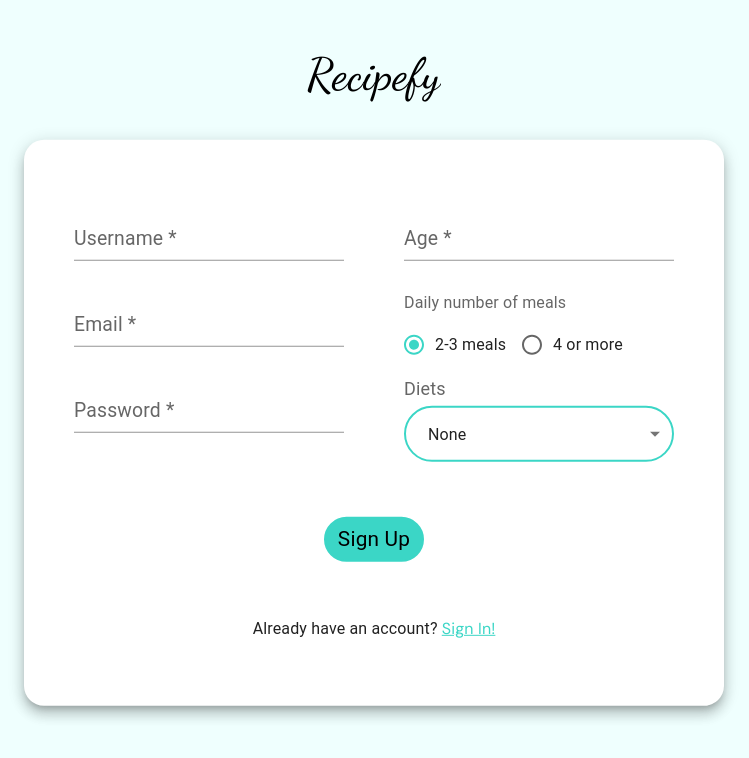
Test: Auth forms tests › SignUpForm tests › throws validation errors when incorrect inputs are passed
Type "Ms" into the field labelled "Username *" at point(209, 240), box top-left (74, 220), bottom-right (344, 260)
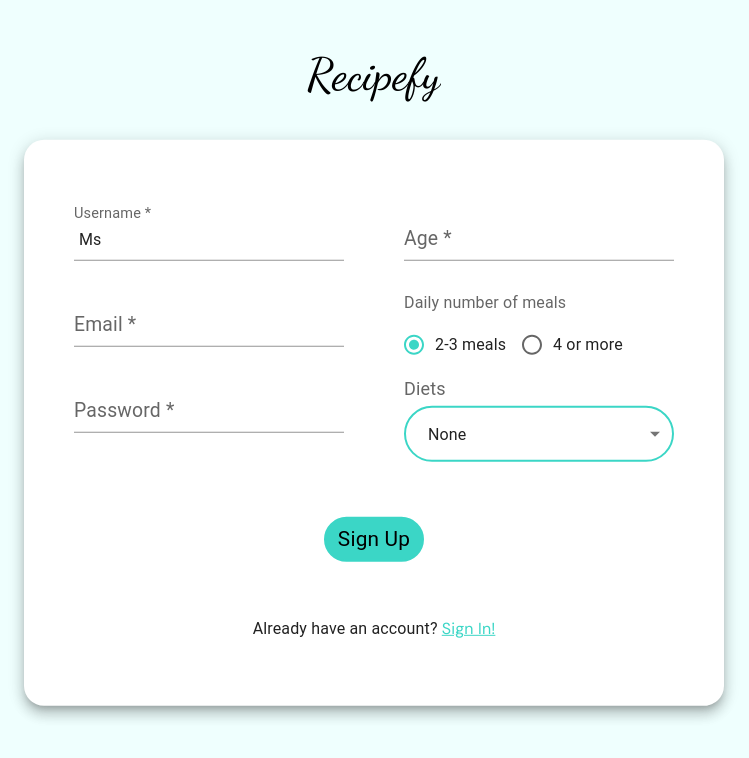
Type "notanemail" into the field labelled "Email *" at point(209, 326), box top-left (74, 306), bottom-right (344, 346)
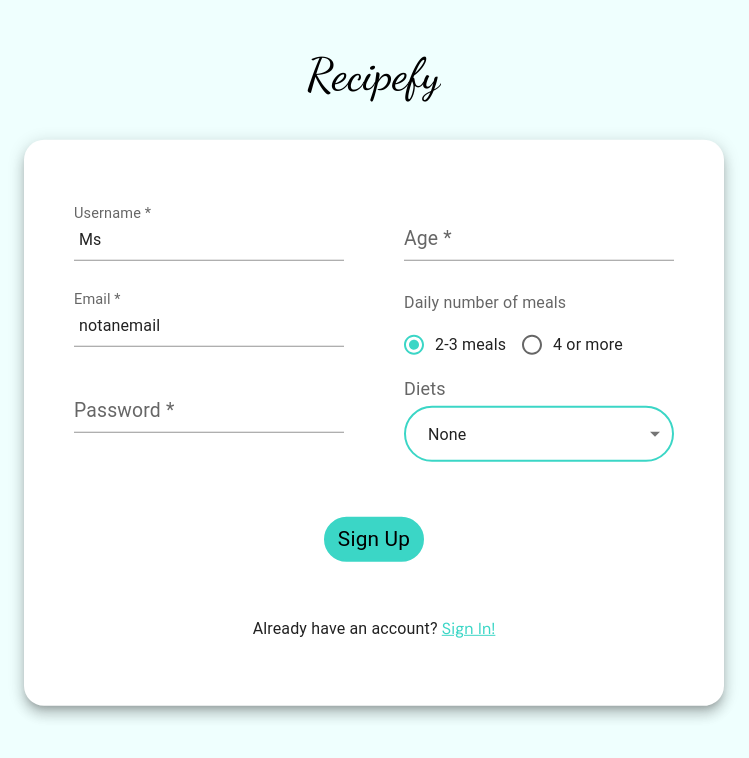
Type "weakpass" into the password field labelled "Password *" at point(209, 412), box top-left (74, 392), bottom-right (344, 432)
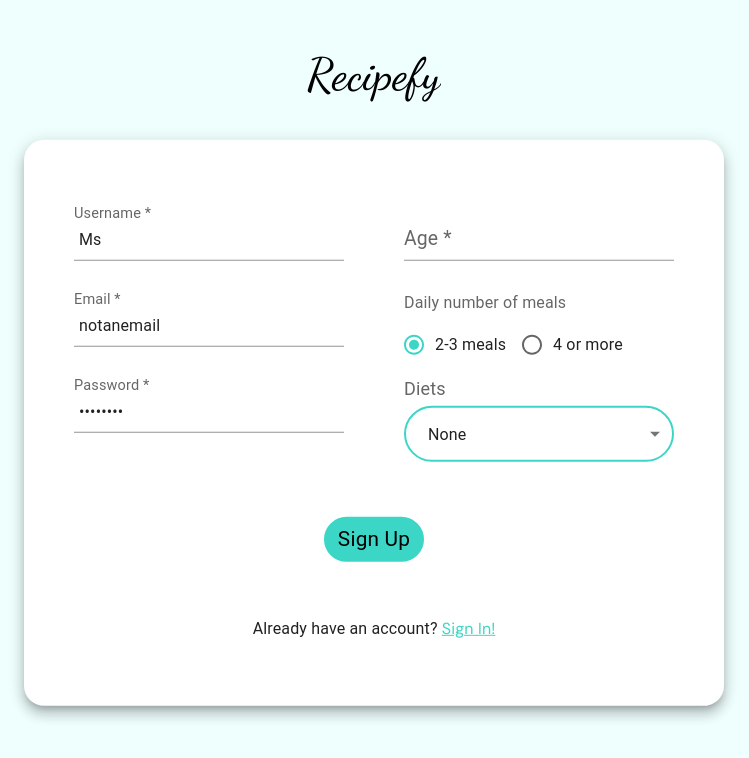
Type "900" into the number field labelled "Age *" at point(539, 240), box top-left (404, 220), bottom-right (674, 260)
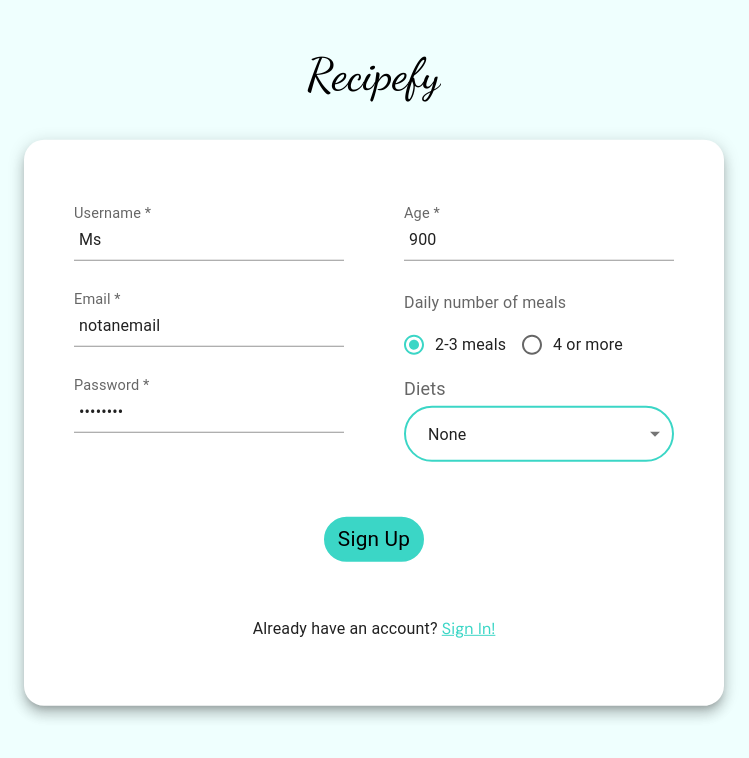
Note: Only selects the "4-5 meals" radio option
Click the radio button labelled "4 or more" at point(572, 344), box top-left (520, 332), bottom-right (623, 356)
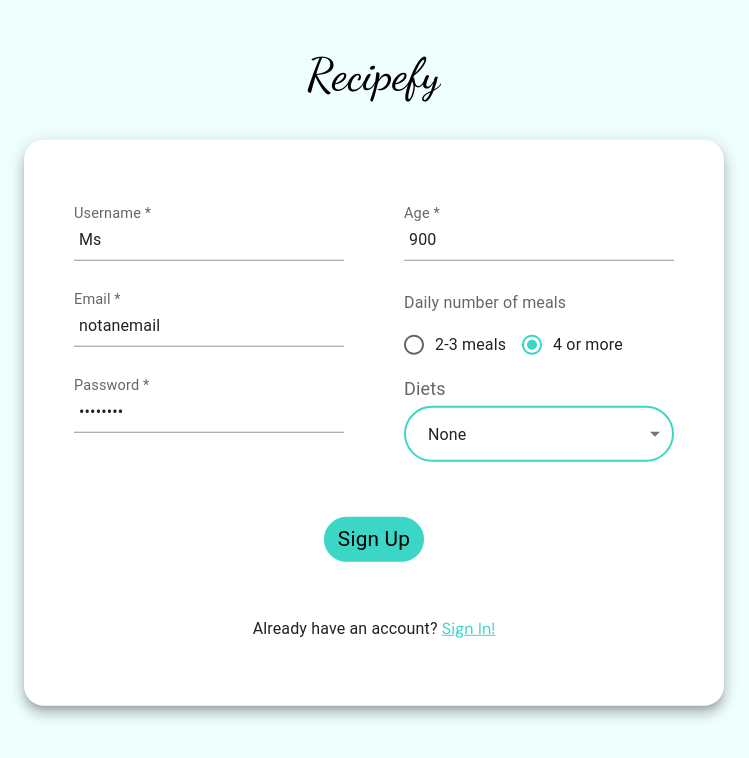
Click the text "Sign Up" at point(374, 540), box top-left (324, 517), bottom-right (424, 562)
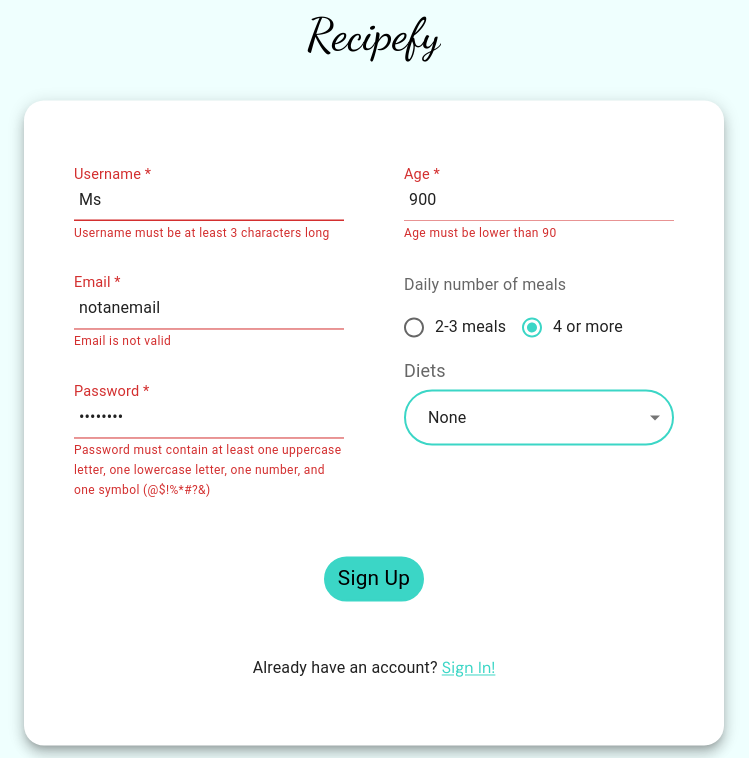
Check: the text "Username must be at least 3 characters long" is shown, box top-left (74, 224), bottom-right (344, 244)
Check: the text "Email is not valid" is shown, box top-left (74, 335), bottom-right (171, 349)
Check: the text "Age must be lower than 90" is shown, box top-left (404, 226), bottom-right (557, 240)
